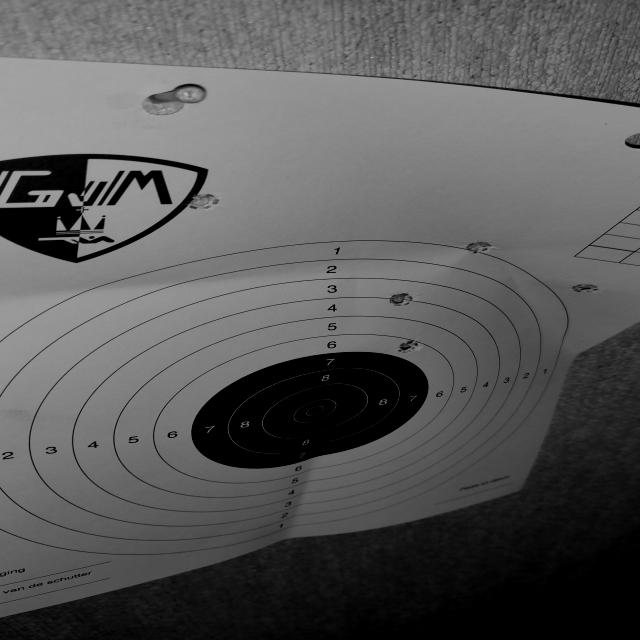0: (190, 192, 218, 211), (570, 283, 602, 295)
1: (468, 240, 497, 254)
4: (389, 292, 417, 306)
6: (396, 340, 424, 354)
Target: (0, 239, 572, 556)
black_contour: (191, 351, 428, 468)
